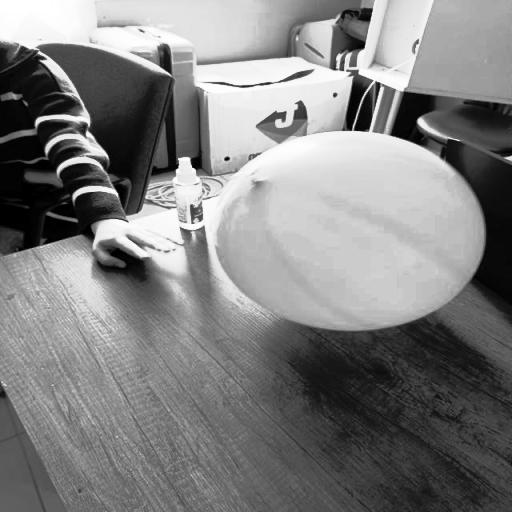balloon: (212, 130, 485, 330)
